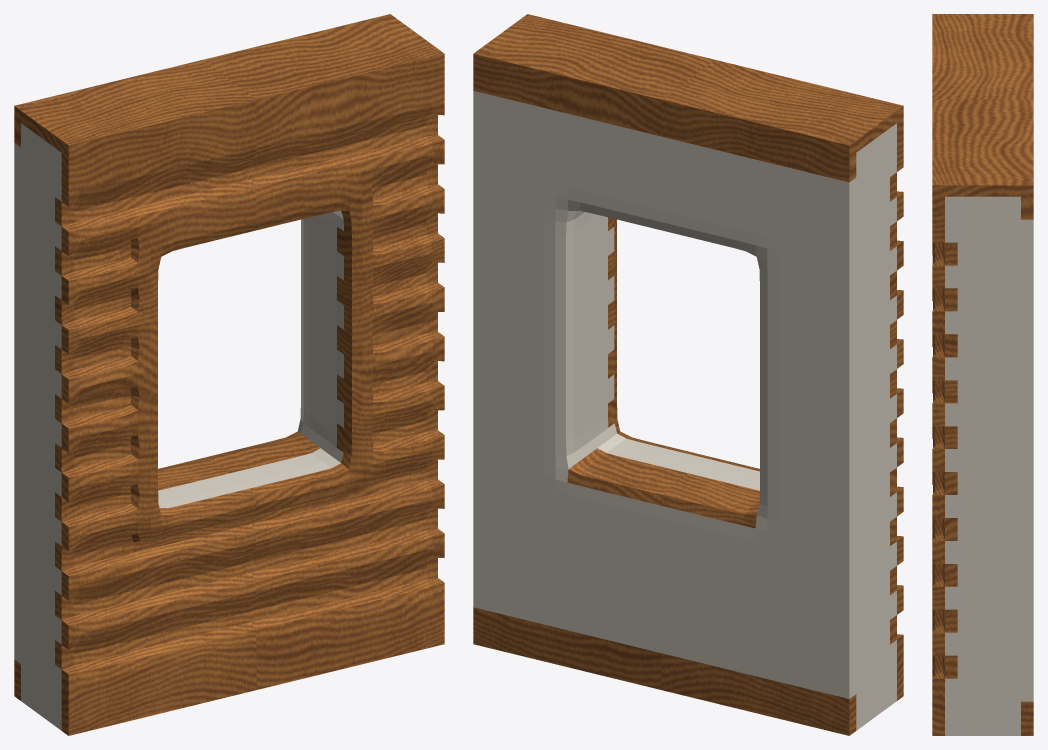
Rendered from wall_out_plank_window_open.glb.
3 renders of one model, left to right at view 1: azimuth 30°, elevation 25°; view 2: azimuth 150°, elevation 25°; view 3: azimuth 270°, elevation 25°, orthographic. The views are drawn at different scales.
Parts seen in each view (by area): view 1: town_wall_out_plank_window_open; view 2: town_wall_out_plank_window_open; view 3: town_wall_out_plank_window_open.
Boxes of the visible parts, bbox=[...] form: town_wall_out_plank_window_open: bbox=[14, 14, 444, 735]; town_wall_out_plank_window_open: bbox=[473, 14, 903, 735]; town_wall_out_plank_window_open: bbox=[932, 14, 1033, 735].
Size of the model in its own units: 1 by 1.5 by 0.25.
Materials: 2 (1 with a texture image).
